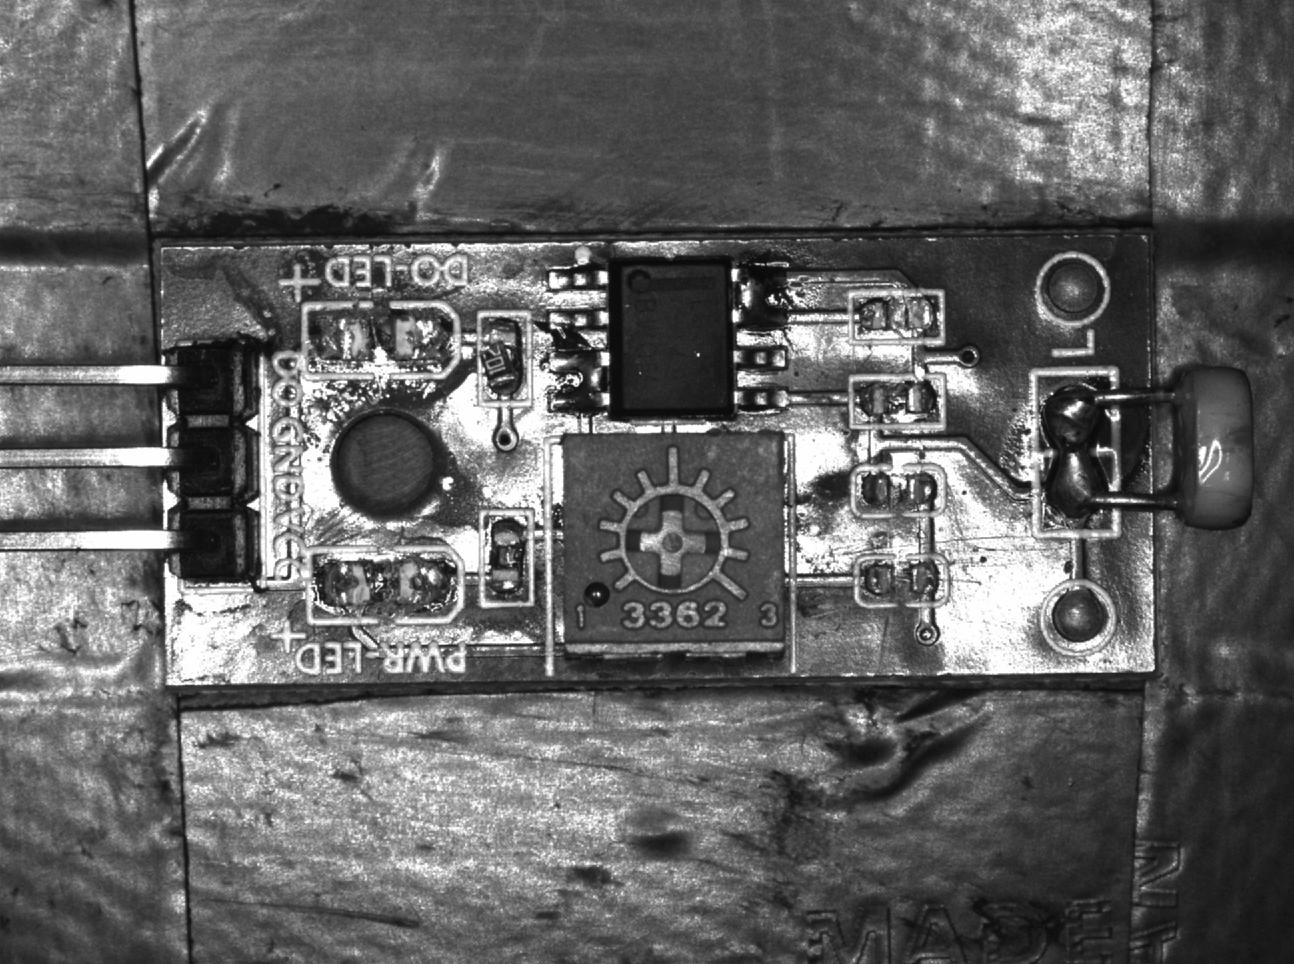bridge: (1035, 374, 1121, 534), (733, 262, 789, 334), (553, 347, 606, 418)
lifted: (478, 313, 527, 405)
miss: (848, 370, 949, 430), (845, 291, 950, 344), (850, 466, 949, 518), (483, 505, 533, 609), (854, 558, 949, 608)
